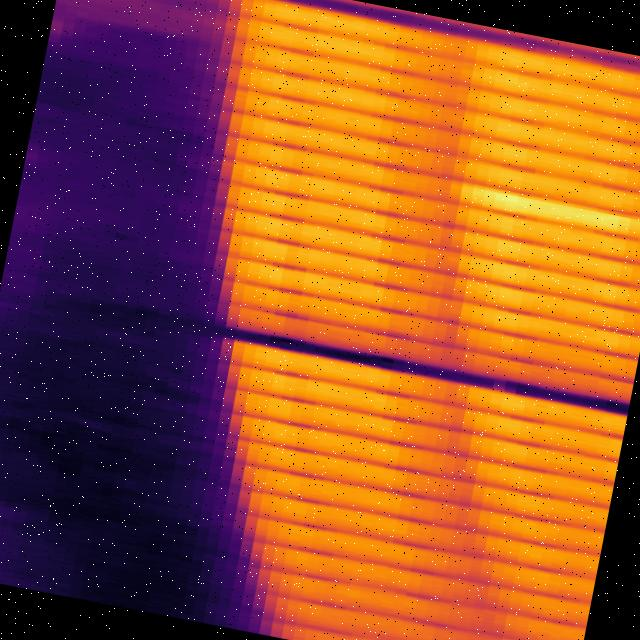Hotspot: (462, 184, 640, 242)
